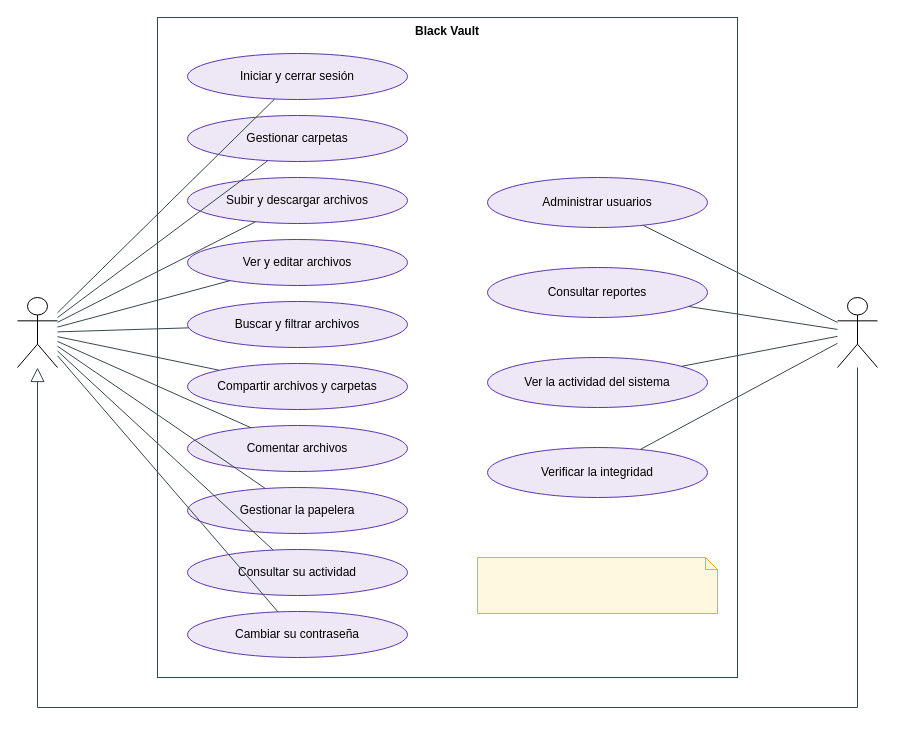
Some shapes in this 912 by 739 pixel diagram are drawn without their labels. The shapes that lost their labels are listed below. From the top down, each one's centre as x and y in pixels, then its label:
At [37,332]: "Usuario".
At [857,332]: "Administrador".
At [597,585]: "El administrador también puede hacer todo lo que hace un usuario.".
